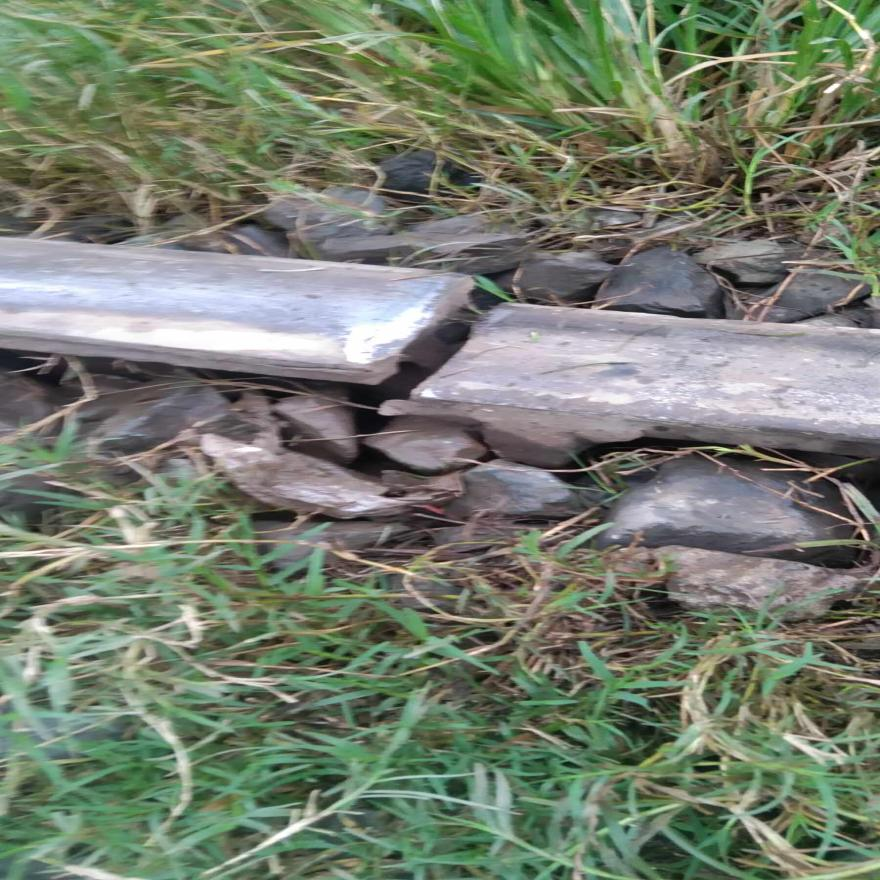railway-gap: (216, 251, 658, 443)
